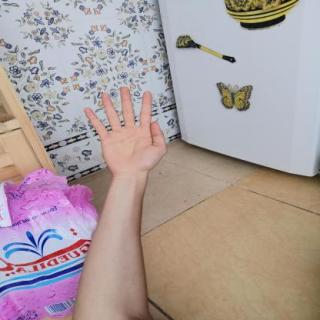SHEEN: (78, 83, 172, 177)
